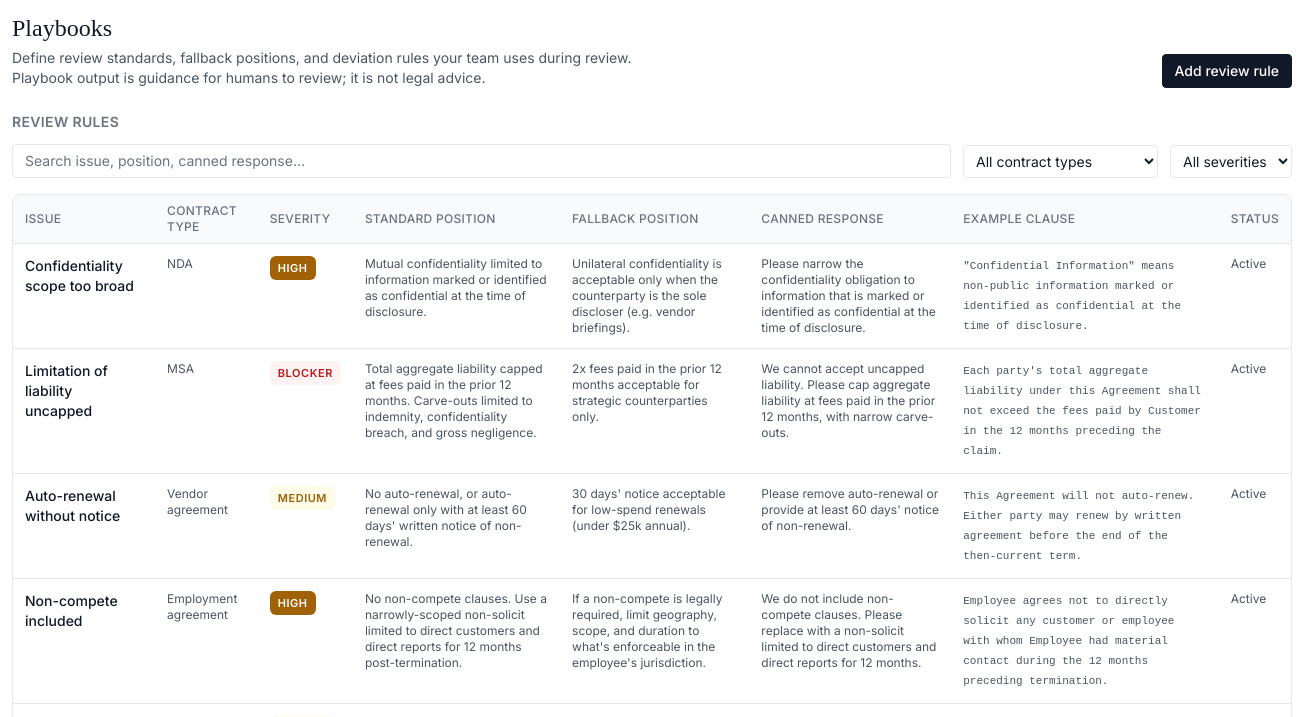
Test case: PlaybooksPage › filters the grid by contract type
Select "Employment agreement" in the dropdown with test id "review-rules-contract-type-filter" at coordinates (1060, 161), box top-left (963, 144), bottom-right (1158, 178)
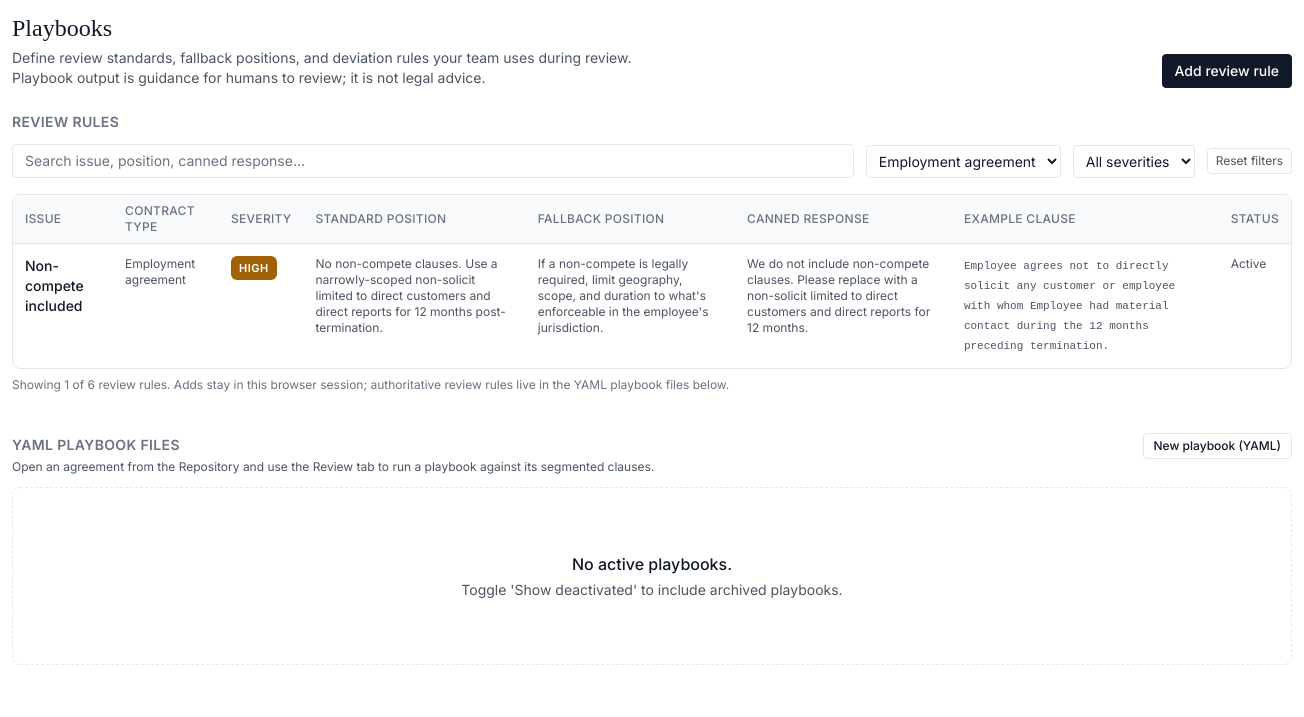
Expected: the text "Non-compete included" is shown, top-left (13, 244), bottom-right (113, 368)
Now the text "Limitation of liability uncapped" is gone
